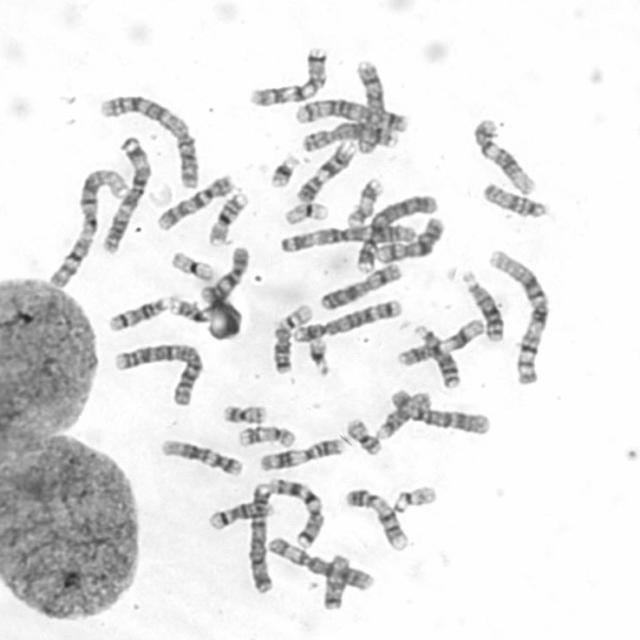A1: (44, 168, 131, 291), (484, 249, 551, 386)
A2: (98, 94, 200, 190), (112, 340, 204, 409)
A3: (98, 134, 153, 256), (280, 223, 416, 255)
B4: (354, 193, 440, 275), (246, 482, 277, 594)
B5: (292, 297, 404, 345), (295, 99, 409, 134)
C10: (155, 172, 236, 234), (198, 243, 250, 305)
C11: (394, 317, 486, 368), (258, 436, 344, 473)
C12: (472, 117, 538, 197), (157, 438, 246, 477)
C6: (266, 535, 376, 592), (388, 386, 492, 436)
C7: (248, 46, 330, 108), (268, 477, 327, 548)
C8: (302, 121, 400, 153), (355, 59, 385, 154)
C9: (343, 488, 411, 552), (293, 138, 357, 203)
D13: (412, 324, 463, 391), (462, 270, 506, 342)
D14: (106, 294, 173, 334), (205, 500, 275, 531)
D15: (374, 391, 433, 444), (478, 180, 550, 220)
E16: (207, 191, 250, 248), (168, 296, 222, 324)
E17: (346, 176, 385, 230), (237, 425, 297, 451)
E18: (320, 552, 352, 614), (270, 325, 295, 374)
F19: (166, 249, 216, 282), (282, 202, 330, 226)
F20: (344, 418, 384, 457), (220, 404, 268, 424)
G21: (268, 152, 300, 190), (308, 337, 333, 379)
G22: (393, 484, 438, 514), (278, 302, 315, 330)
X: (318, 260, 405, 312), (373, 216, 446, 264)
